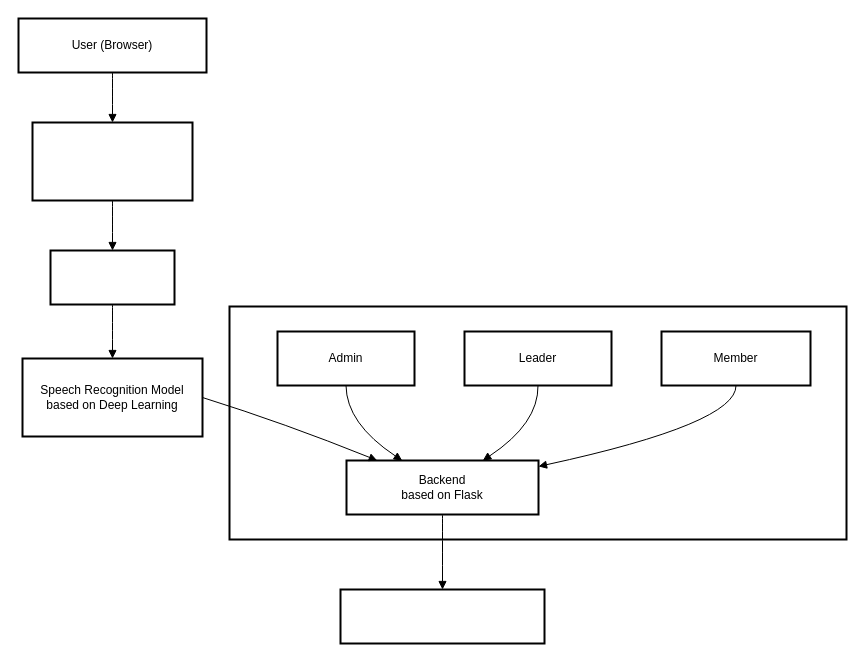
The diagram is 864 pixels wide and 661 high, and some of its shapes have lost their labels. The shapes that lost their labels are listed below. From the top down, each one's centre as x and y in pixels, then its label:
At point 112,161: "Front-end interface (UIkit + FullCalendar)".
At point 112,277: "Voice Input".
At point 442,616: "MySQL Database".
